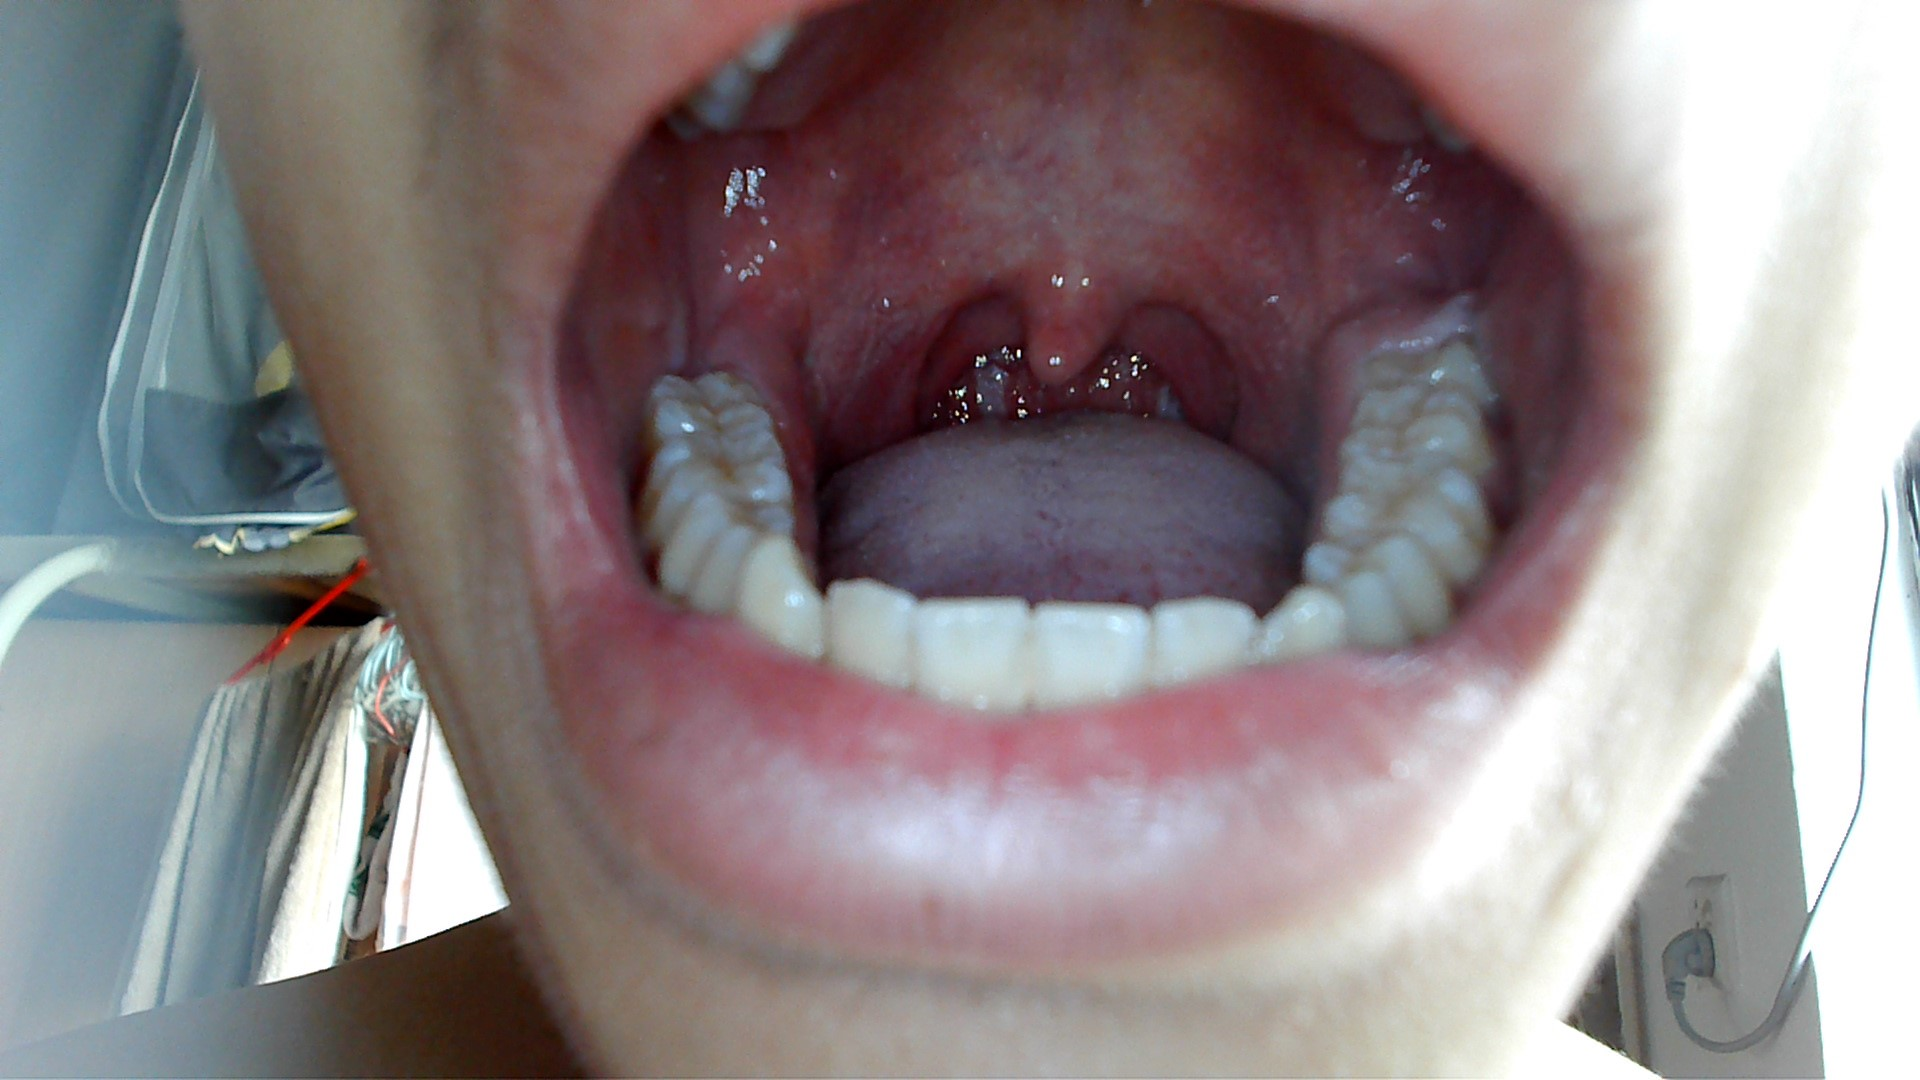throat: (886, 268, 975, 436), (1178, 276, 1266, 440)
